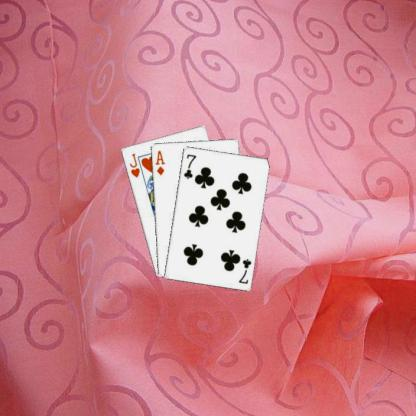7C: (181, 151, 197, 180), (236, 256, 252, 285)
AD: (152, 148, 166, 176)
JH: (127, 150, 140, 178)
